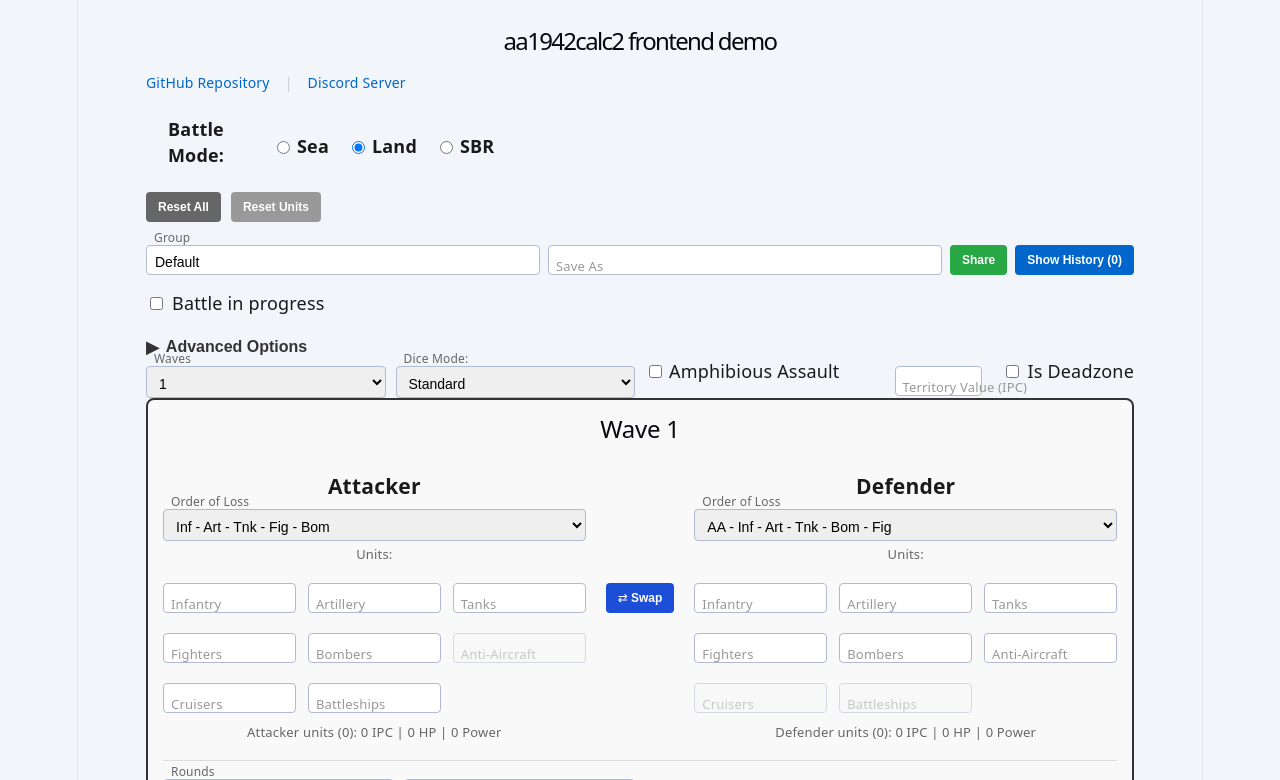
it: Input collapse on Evaluate Battle › re-expands the input when any input is edited
The image size is (1280, 780).
Click the radio button labelled "SBR". click: (446,148)
box: [440,141,453,154]
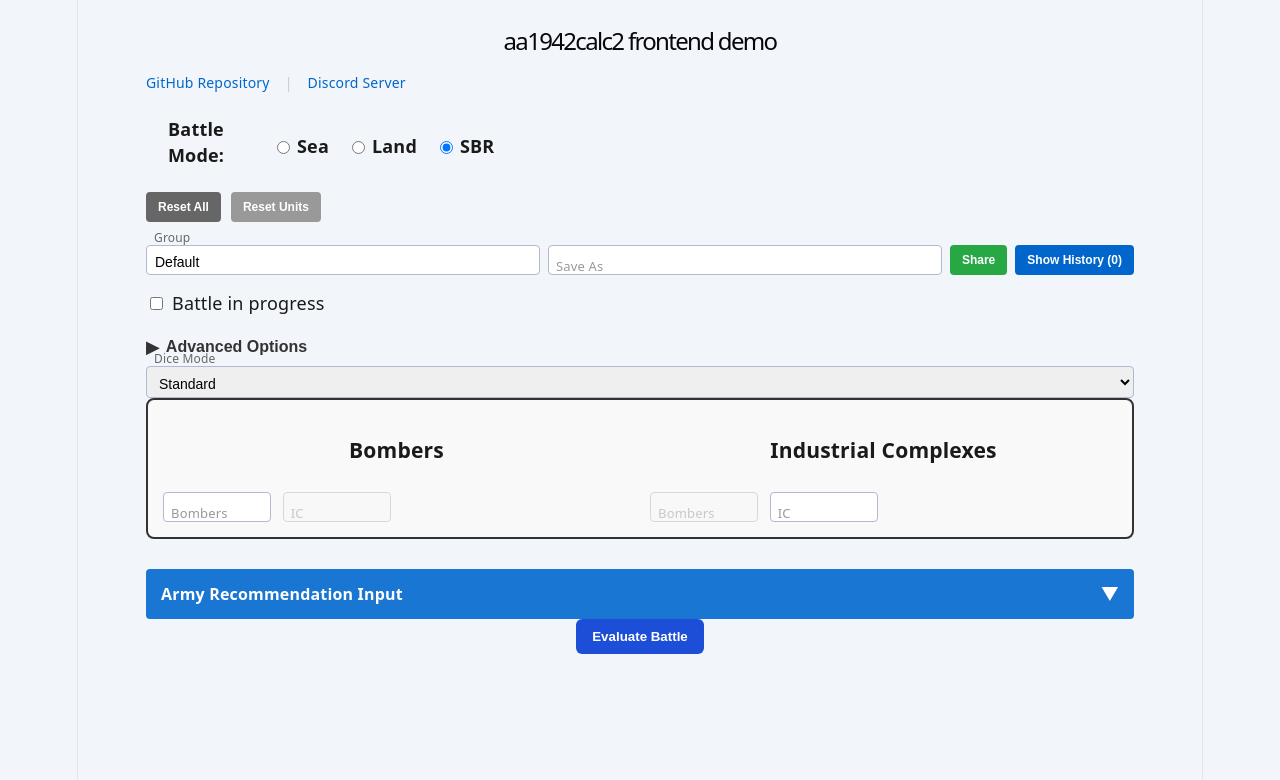
Expected: the element showing "Bombers Bombers IC Industrial Complexes Bombers IC" is shown, [146,398,1134,539]
Type "3" into the 1st number field. click: (217,507)
box: [163,492,271,522]
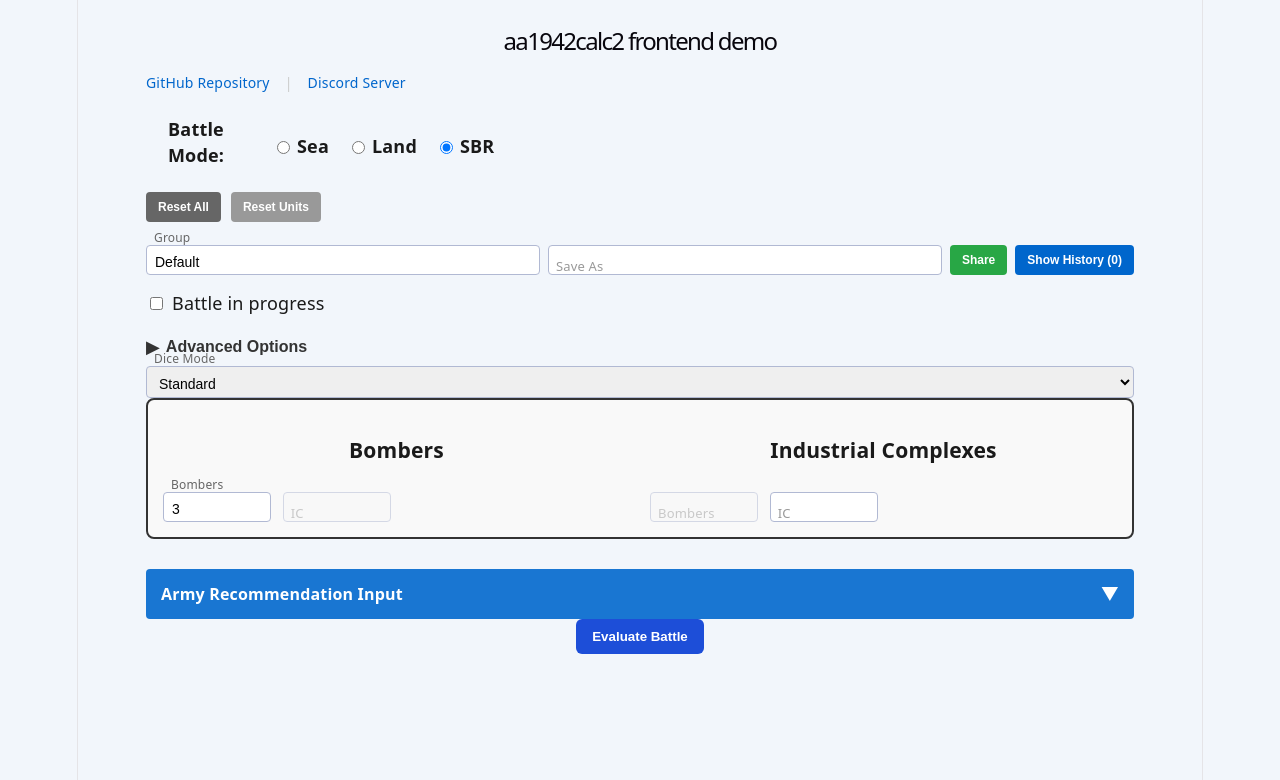
Type "1" into the 4th number field. click: (824,507)
box: [770,492,878,522]
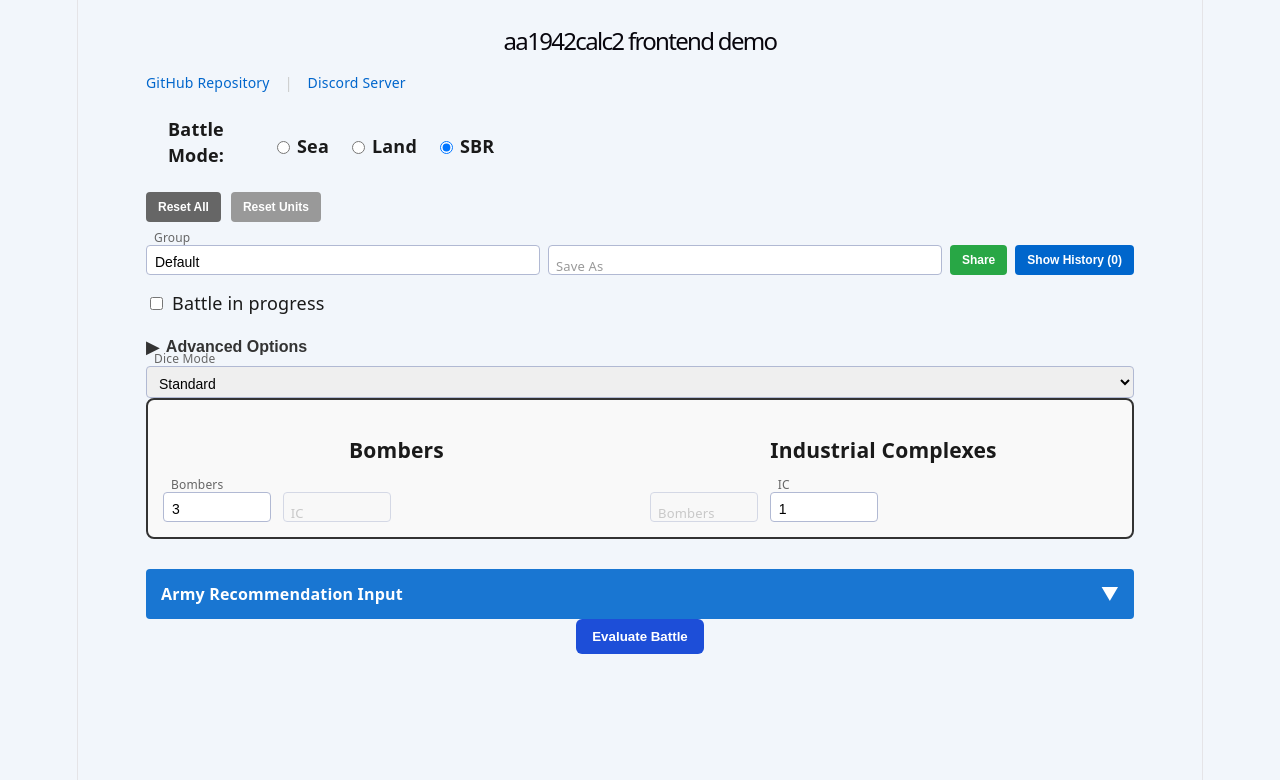
Click the button "Evaluate Battle". click: (640,636)
box: [576,619,704,654]
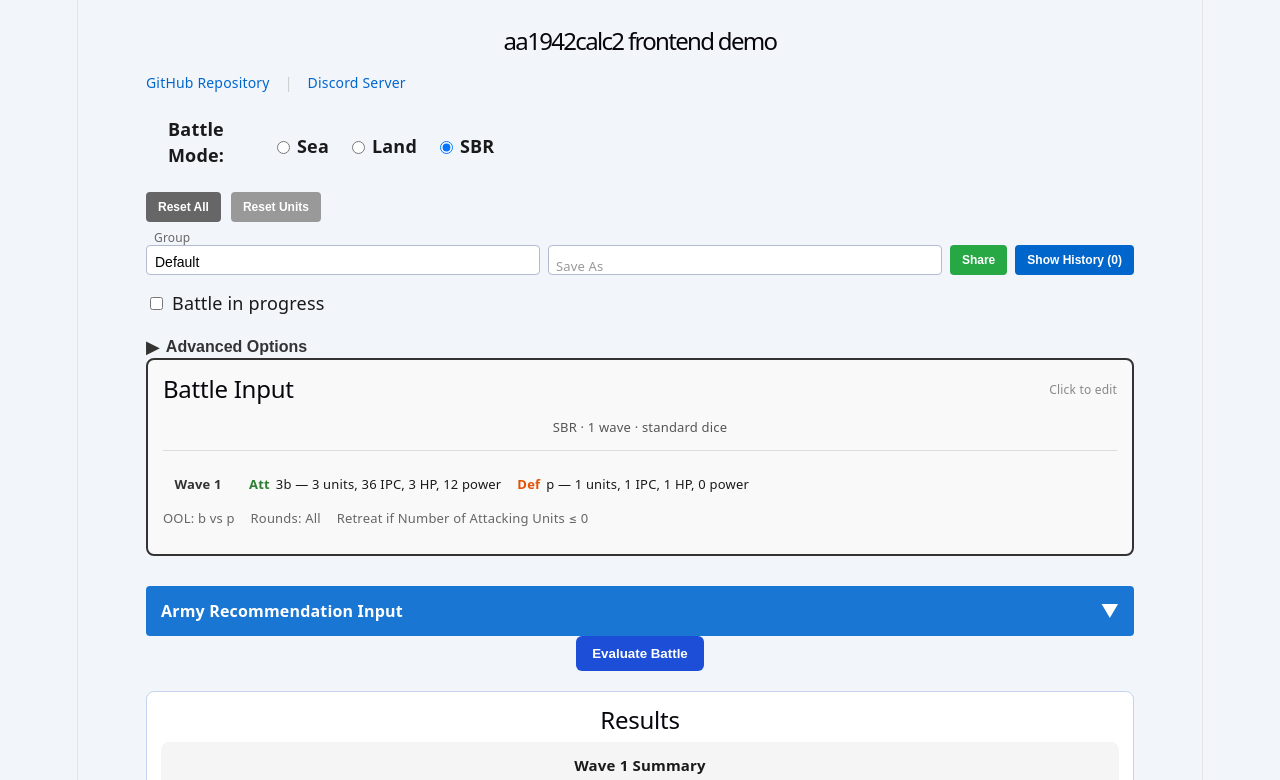
Expected: the heading "Battle Input" is shown, [163,376,294,404]
Click the checkbox labelled "Battle in progress". click: (156,303)
box: [150,297,163,310]
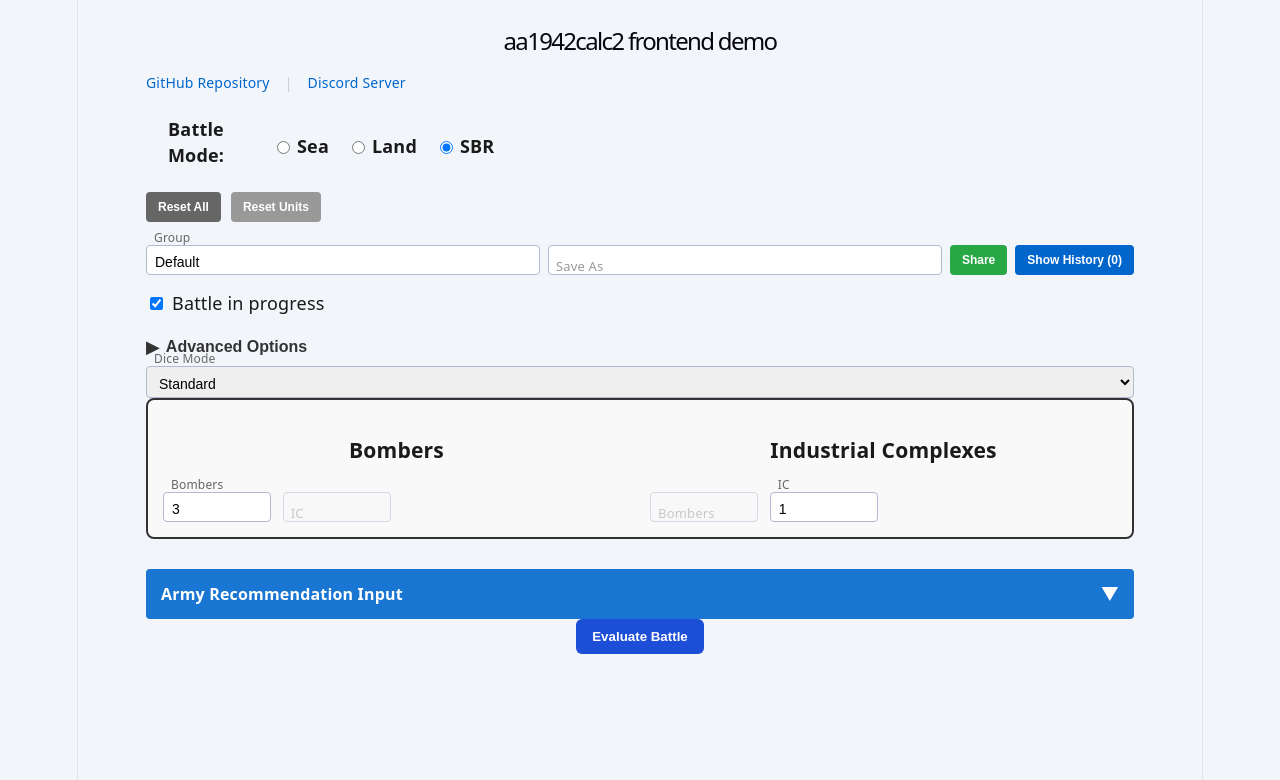
Expected: the heading "Bombers" is shown, [349,434,444,464]
Expected: the button "Battle Input" is gone
